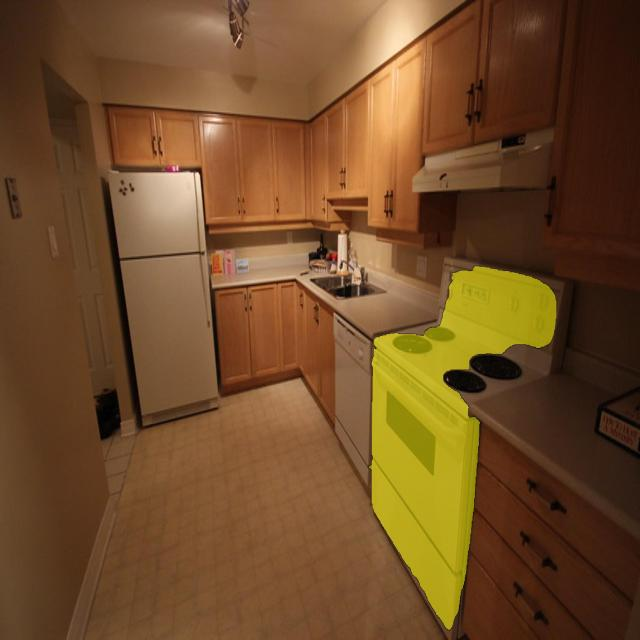dishwasher: (333, 309, 370, 491)
